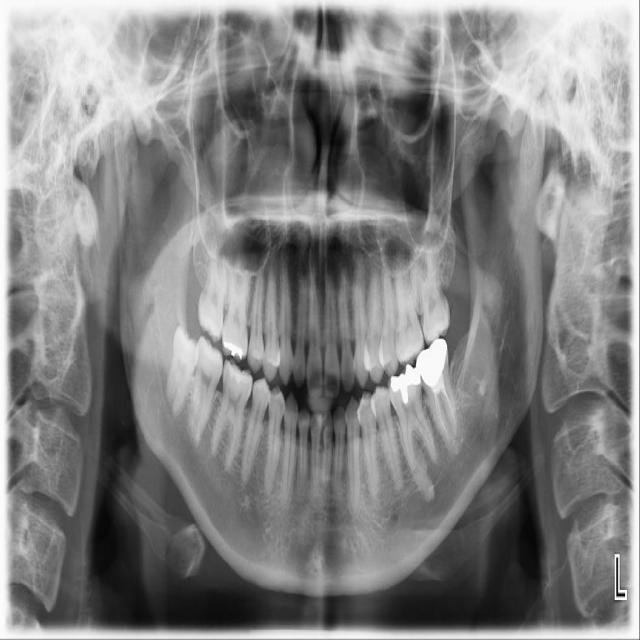Crown: (416, 337, 449, 393)
Filling: (387, 363, 421, 405), (222, 338, 247, 363), (229, 363, 250, 387), (255, 381, 270, 394)
Root Canal Treatment: (436, 397, 449, 444), (446, 396, 454, 429)
impacted tooth: (163, 322, 200, 418)
